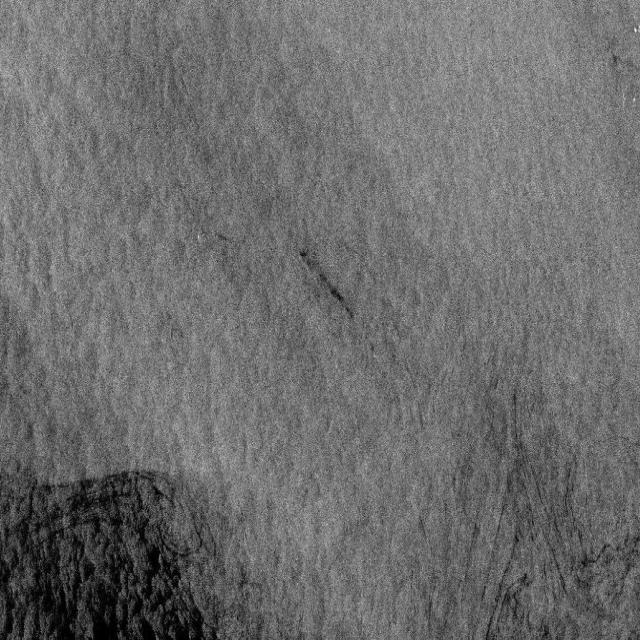look-alike: (3, 451, 212, 640)
oil-spill: (288, 229, 365, 333)
